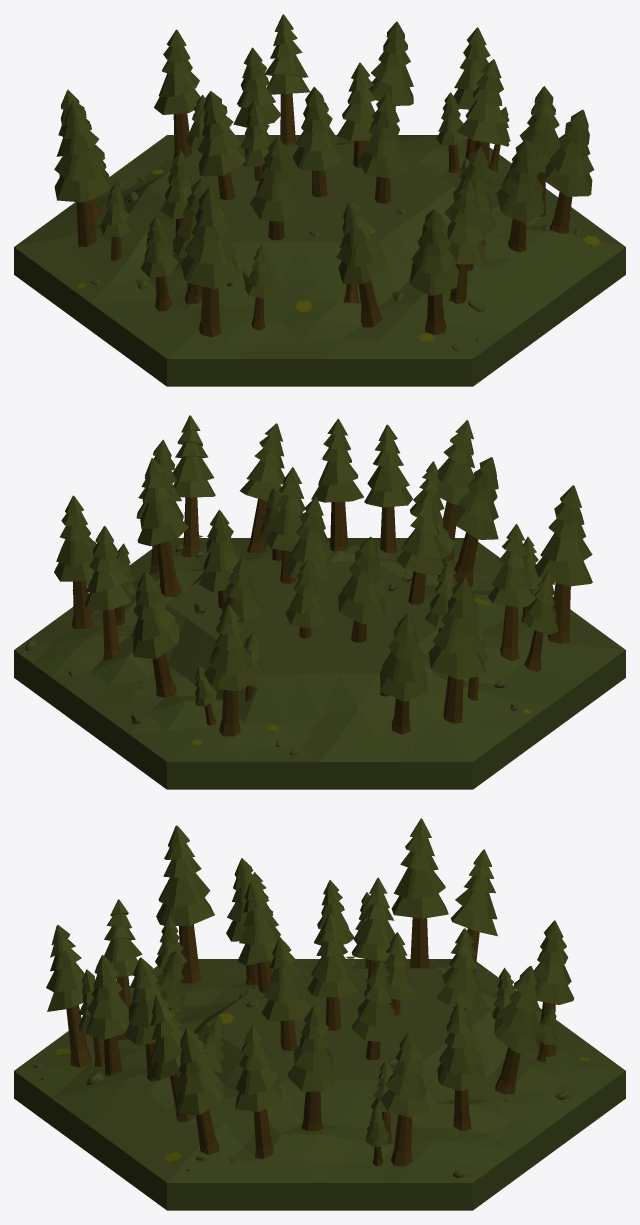
Rendered from taiga.glb.
3 renders of one model, top to bottom at view 1: azimuth 30°, elevation 25°; view 2: azimuth 150°, elevation 25°; view 3: azimuth 270°, elevation 25°, orthographic.
Parts seen in each view (by area): view 1: land, trees, rocks, flowers; view 2: land, trees, rocks; view 3: land, trees, rocks.
Part boxes in pixels (x1,y1,x2,y2): land: (14, 135, 625, 386); trees: (54, 14, 594, 337); rocks: (59, 139, 600, 350); flowers: (77, 145, 600, 342); land: (14, 538, 625, 789); trees: (54, 415, 592, 736); rocks: (25, 543, 517, 755); land: (14, 959, 625, 1210); trees: (46, 818, 574, 1166); rocks: (34, 960, 570, 1177).
Size of the model in its own units: 1.73 by 0.6654 by 2.
